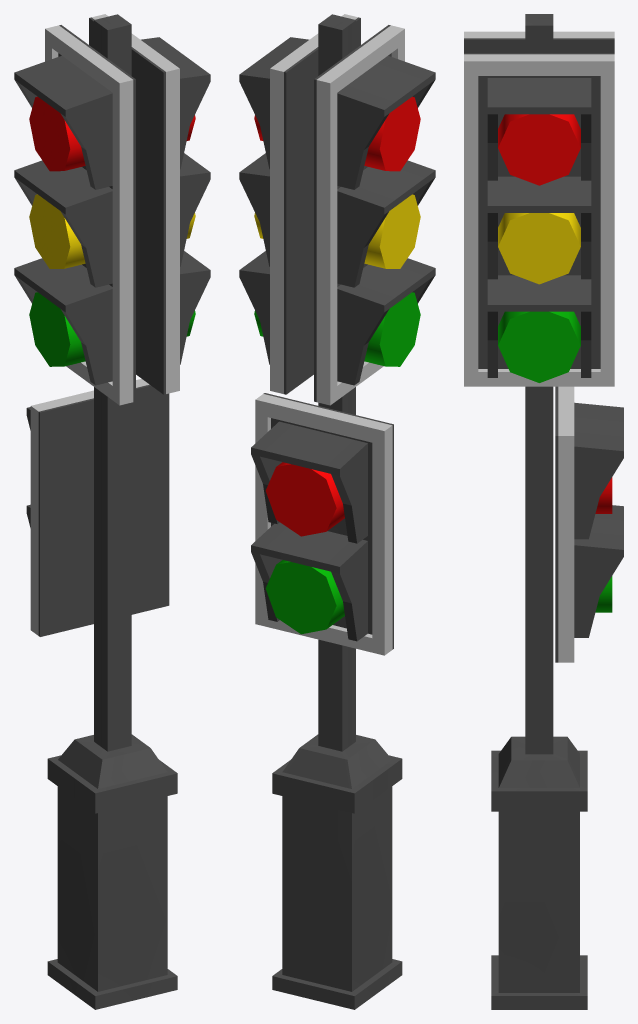
File: Traffic_light.FBX
3 views of the same model, side by side, from view 1: azimuth 30°, elevation 25°; view 2: azimuth 150°, elevation 25°; view 3: azimuth 270°, elevation 25° (orthographic).
Parts seen in each view (by area): view 1: Traffic_light; view 2: Traffic_light; view 3: Traffic_light.
Part boxes in pixels (<box>): Traffic_light: <box>14,14,210,1009</box>; Traffic_light: <box>239,14,435,1009</box>; Traffic_light: <box>464,14,623,1009</box>.
Bounding box in the file's own units: 107 × 674 × 101.
